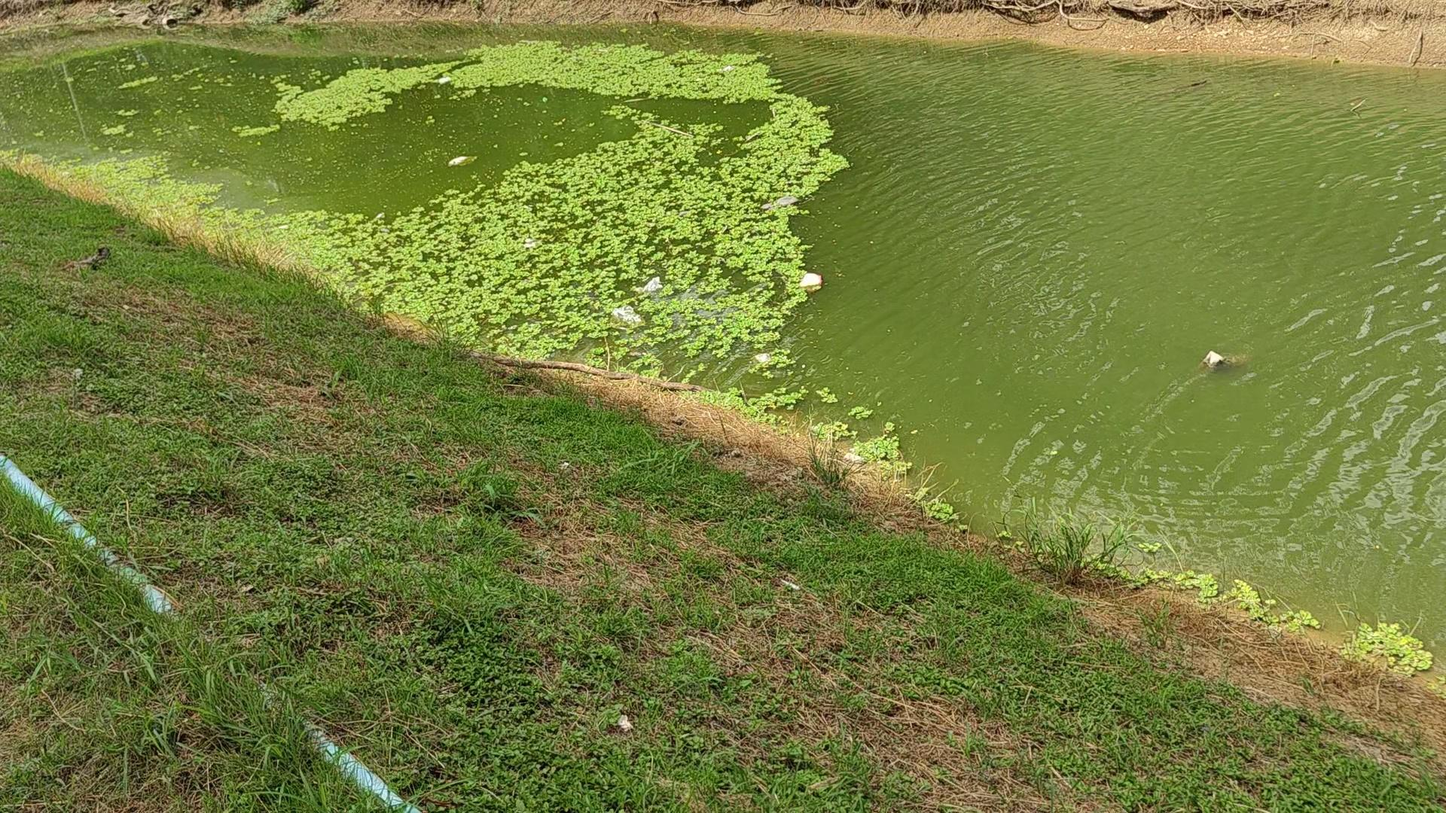trash: (612, 305, 642, 324), (1202, 351, 1228, 368), (764, 196, 798, 208), (799, 273, 822, 290), (642, 276, 661, 293), (449, 156, 474, 166), (755, 353, 772, 364), (524, 238, 538, 248), (437, 75, 451, 84), (721, 65, 735, 72)
